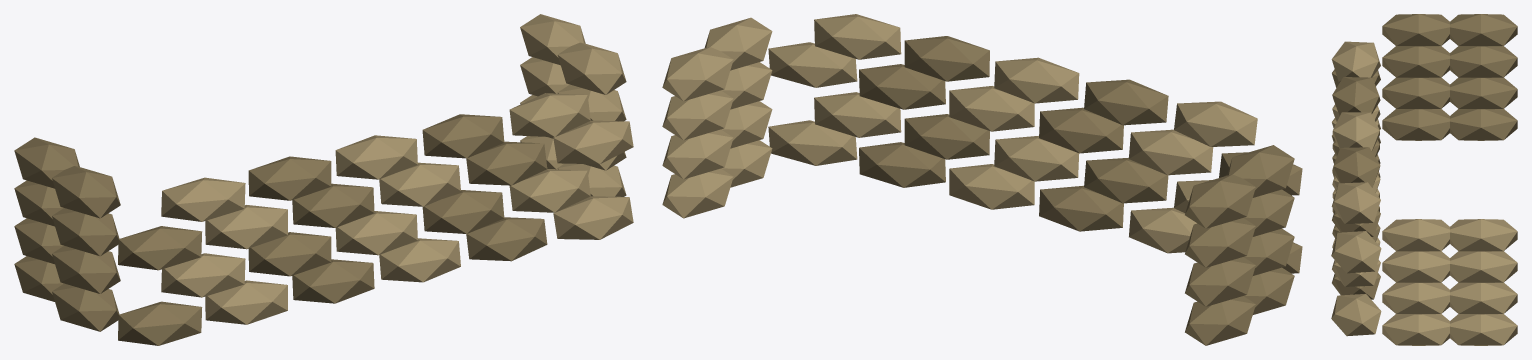
Rendered from sacos_areia.glb.
The picture shows the model from 3 angles, left to right: view 1: azimuth 30°, elevation 25°; view 2: azimuth 150°, elevation 25°; view 3: azimuth 270°, elevation 25°; orthographic projection. The views are drawn at different scales.
Parts seen in each view (by area): view 1: sacos_areia; view 2: sacos_areia; view 3: sacos_areia.
Boxes of the visible parts, <box> form: sacos_areia: <box>14,14,633,345</box>; sacos_areia: <box>662,14,1302,345</box>; sacos_areia: <box>1331,14,1517,345</box>.
Size of the model in its own units: 3.86 by 1.01 by 1.34.
